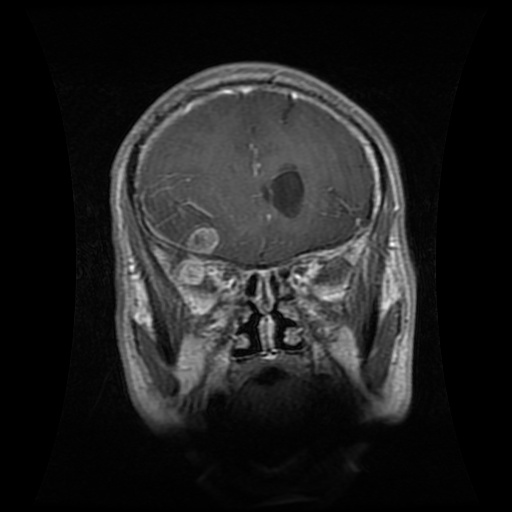glioma: (177, 223, 220, 287)
